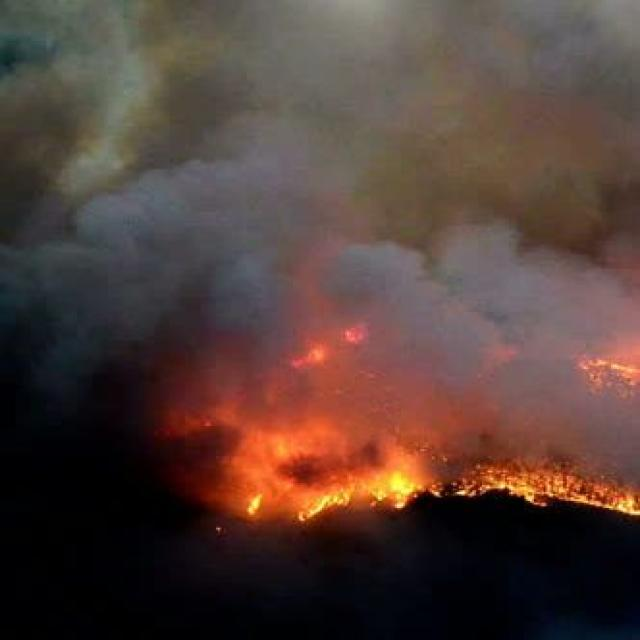Fire: (454, 461, 640, 521), (292, 480, 358, 529), (580, 346, 640, 398), (376, 468, 423, 516), (236, 478, 271, 530), (286, 339, 342, 371), (325, 321, 379, 350)
Smoke: (0, 0, 640, 463)
